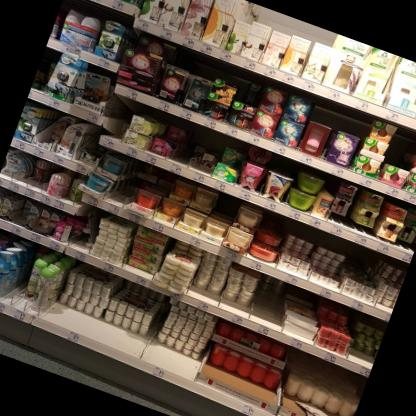empty_space: (171, 135, 198, 170)
